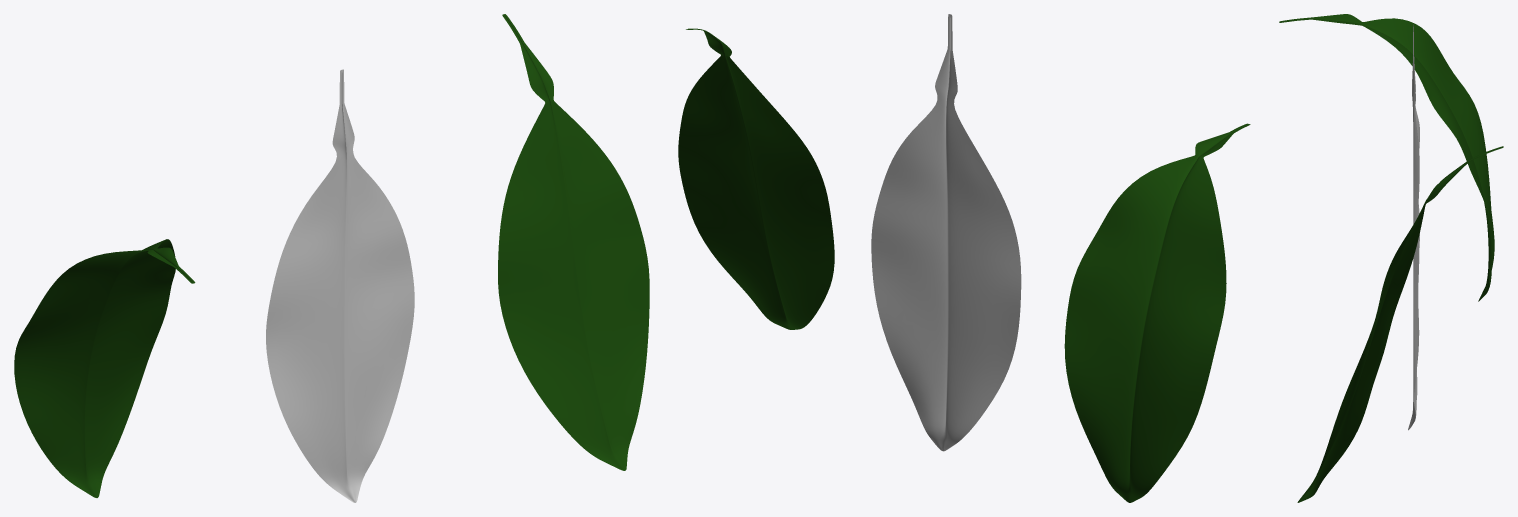
Rendered from lemonleaf.fbx.
3 renders of one model, left to right at view 1: azimuth 30°, elevation 25°; view 2: azimuth 150°, elevation 25°; view 3: azimuth 270°, elevation 25°, orthographic. The views are drawn at different scales.
Parts seen in each view (by area): view 1: Plane.004_Plane.008; view 2: Plane.004_Plane.008; view 3: Plane.004_Plane.008.
Part boxes in pixels (x1,y1,x2,y2): Plane.004_Plane.008: (14,14,649,502); Plane.004_Plane.008: (678,14,1250,502); Plane.004_Plane.008: (1279,14,1503,502).
Size of the model in its own units: 128 by 91.56 by 46.2.
